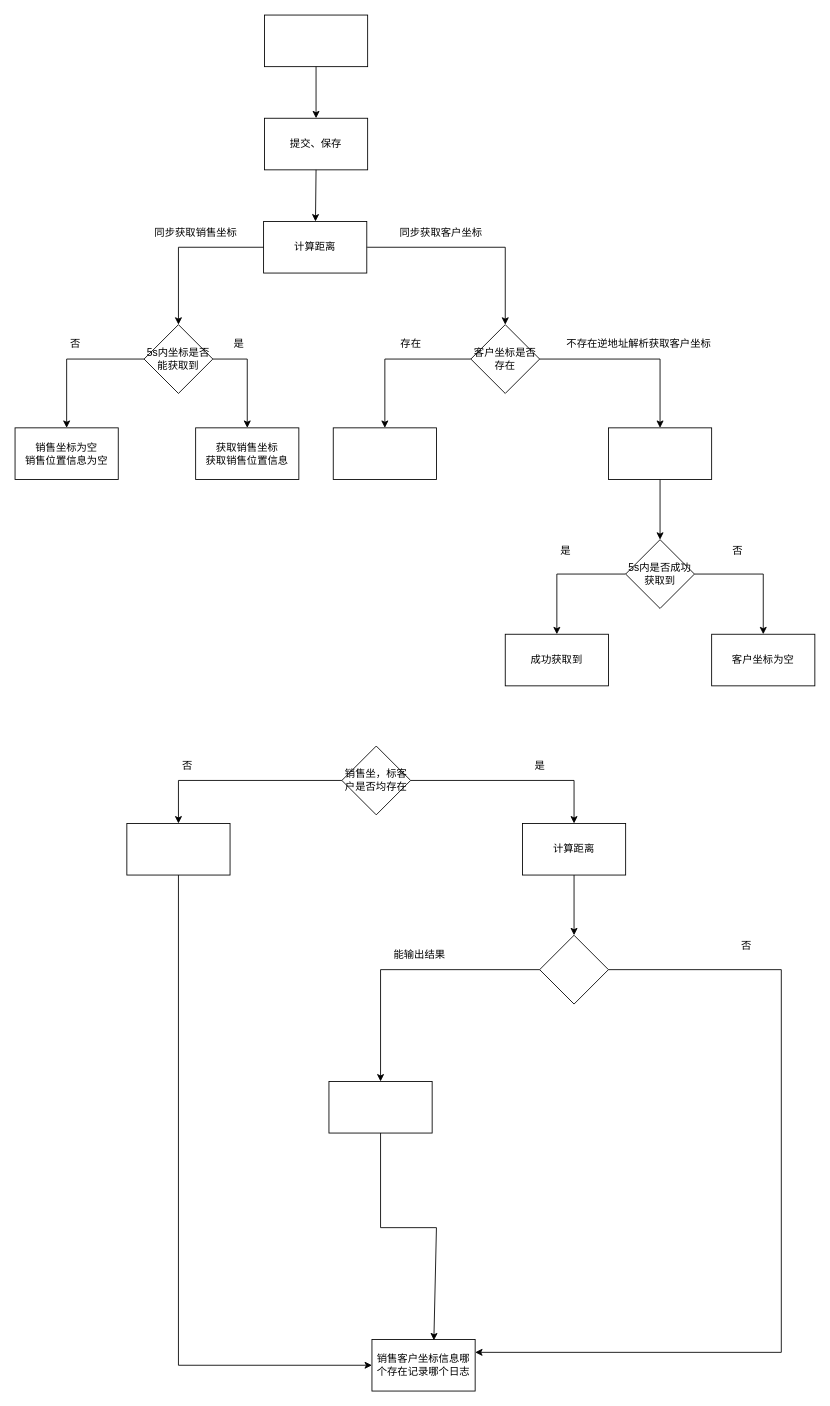
Image size: 830x1406. Some labels were removed from this diagram. The shapes that lost their labels are listed below. From the top down, each one's centre as x and y in pixels, then its label:
At (x=316, y=40): "销售拜访".
At (x=384, y=453): "直接取客户坐标".
At (x=660, y=453): "根据客户名称获取坐标信息".
At (x=178, y=849): "不计算距离".
At (x=573, y=969): "5s 内是否成功能否获取".
At (x=380, y=1107): "返回距离".
